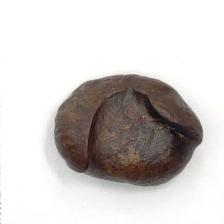NG: (78, 83, 162, 172), (164, 107, 206, 173)
